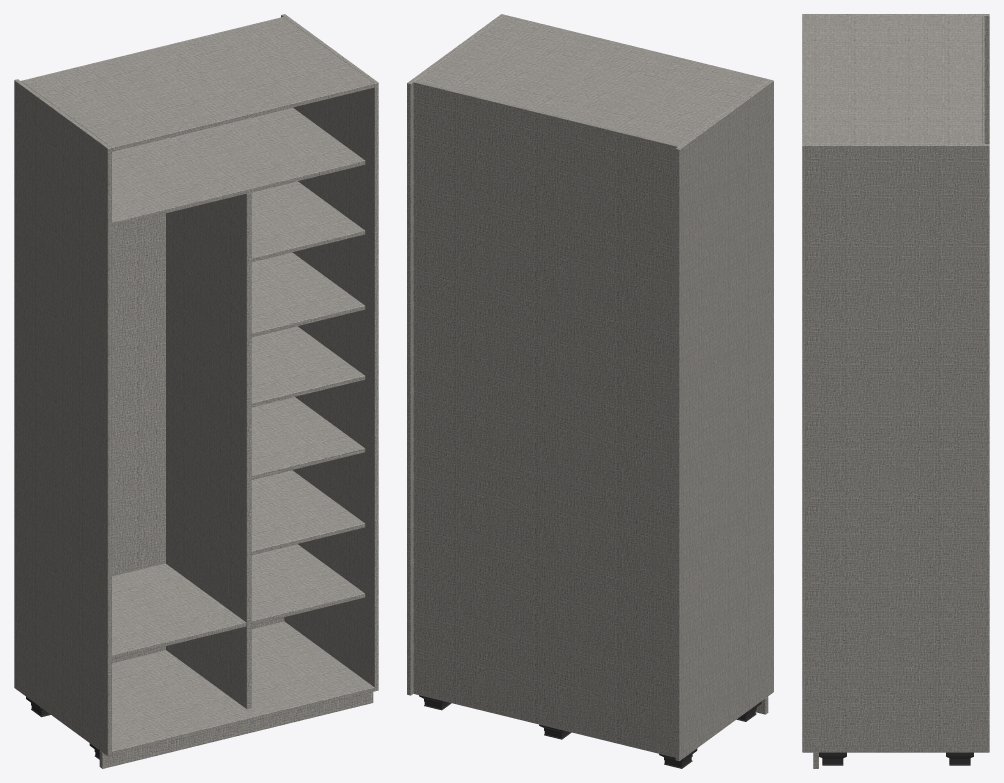
File: cbib12135.gltf
The picture shows the model from 3 angles, left to right: view 1: azimuth 30°, elevation 25°; view 2: azimuth 150°, elevation 25°; view 3: azimuth 270°, elevation 25°; orthographic projection.
Visible parts, largest first — view 1: CBIB12135; view 2: CBIB12135; view 3: CBIB12135.
Part boxes in pixels (left/top/right/bottom): CBIB12135: left=14, top=14, right=378, bottom=768; CBIB12135: left=407, top=14, right=773, bottom=768; CBIB12135: left=802, top=14, right=989, bottom=768.
Size of the model in its own units: 1 by 2.2 by 0.6.
Materials: 3 (2 with a texture image).
